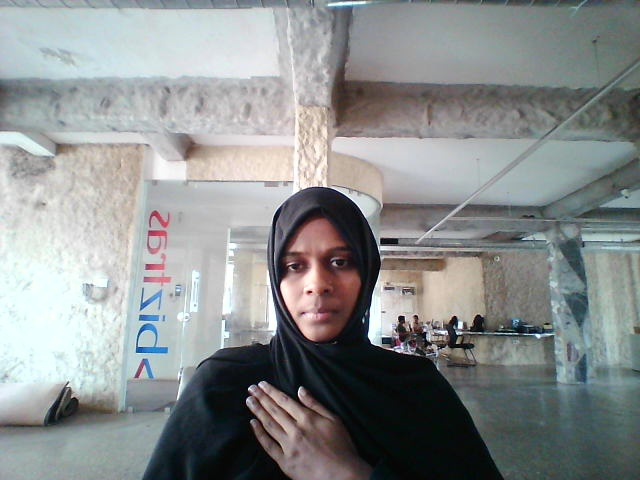PLEASE: (217, 362, 385, 478)
